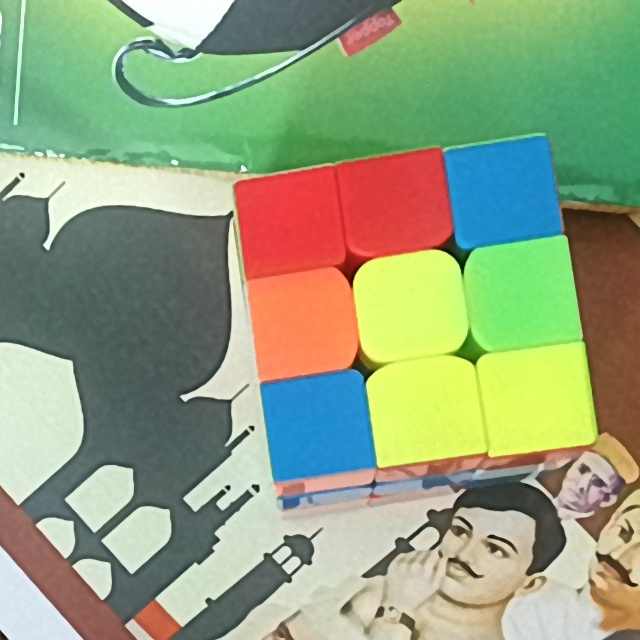tile: (491, 358, 584, 438), (363, 268, 457, 347), (381, 371, 474, 449), (247, 181, 334, 263), (461, 149, 548, 231), (480, 254, 568, 335), (262, 282, 346, 366), (352, 164, 439, 243), (273, 389, 359, 465)
